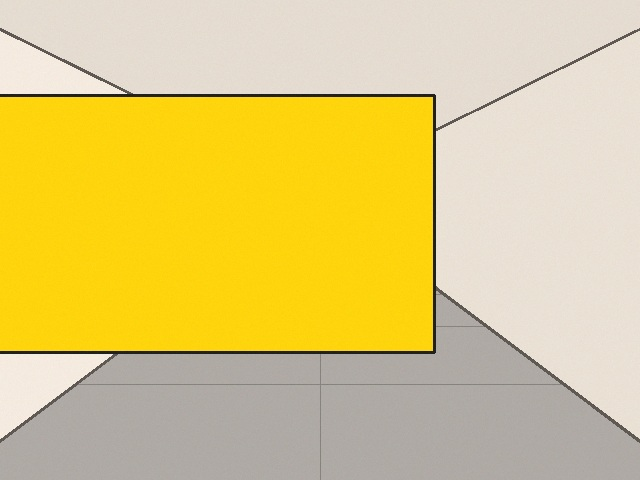charging_station: (82, 111, 201, 309)
forklift: (0, 95, 434, 352)
hospital_bed: (322, 201, 434, 278)
